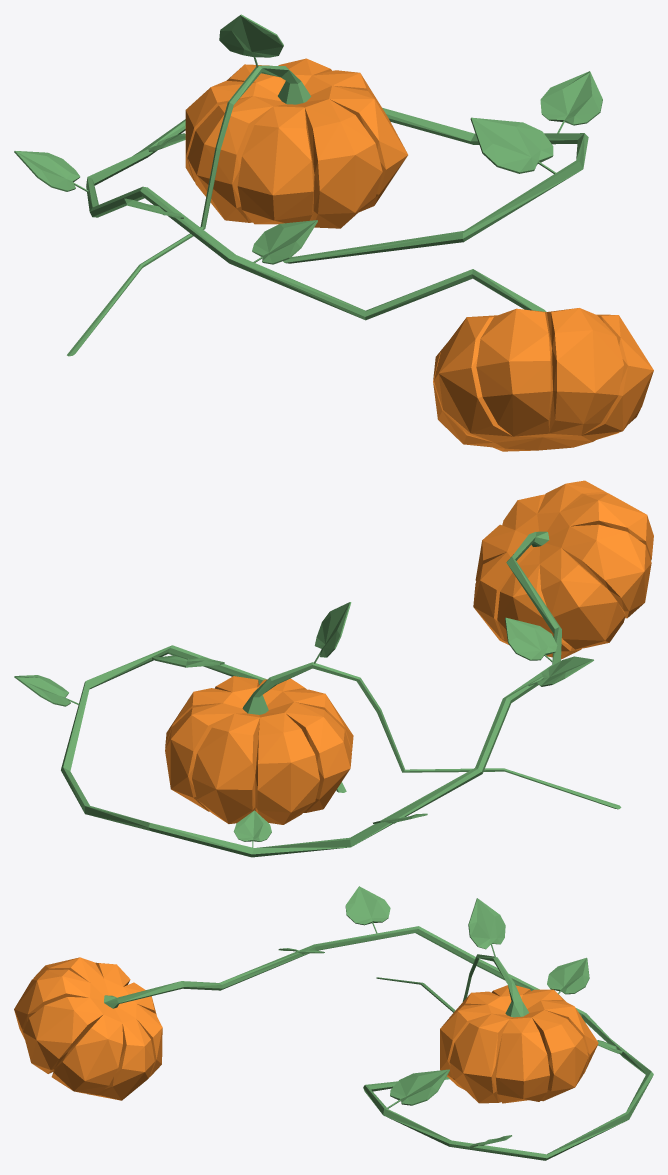
The model's file is pumpkin.fbx.
3 renders of one model, top to bottom at view 1: azimuth 30°, elevation 25°; view 2: azimuth 150°, elevation 25°; view 3: azimuth 270°, elevation 25°, orthographic. The views are drawn at different scales.
Parts seen in each view (by area): view 1: pumpkin; view 2: pumpkin; view 3: pumpkin.
Part boxes in pixels (x1,y1,x2,y2): pumpkin: (14, 14, 653, 451); pumpkin: (14, 480, 653, 857); pumpkin: (14, 886, 653, 1160).
Size of the model in its own units: 186 by 73.46 by 238.
